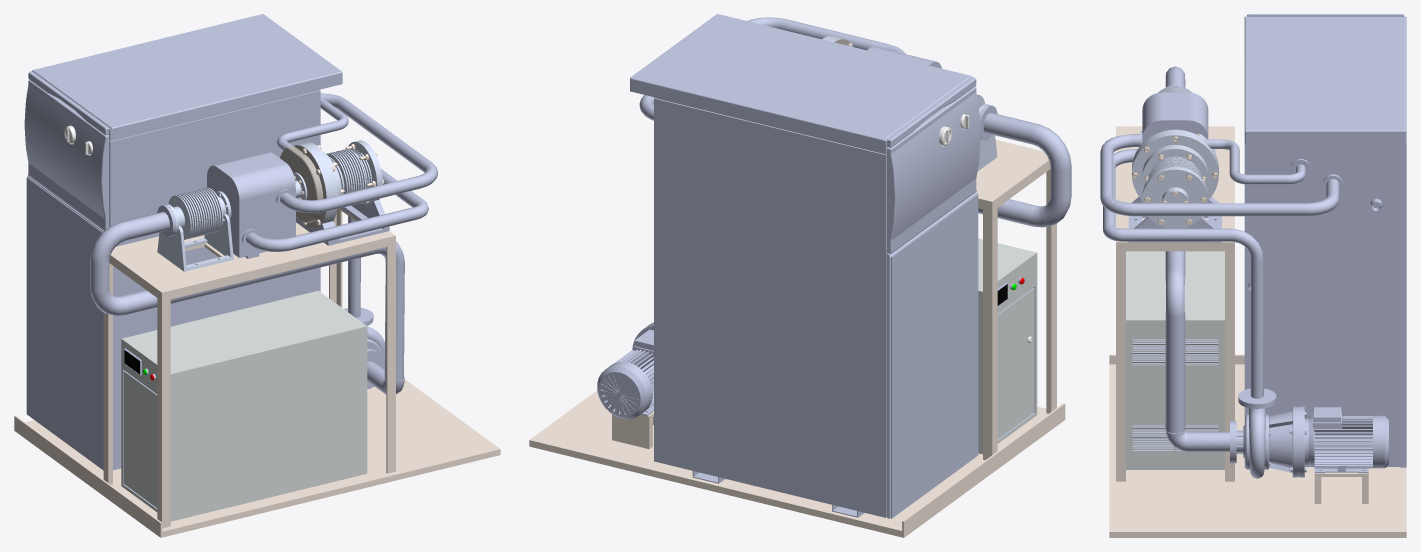
The model's file is 2. ORC тубрина.FBX.
3 views of the same model, side by side, from view 1: azimuth 30°, elevation 25°; view 2: azimuth 150°, elevation 25°; view 3: azimuth 270°, elevation 25° (orthographic). The views are drawn at different scales.
Visible parts, largest first — view 1: Baxi Slim 01_0300 FIN-1-solid1, Шкаф-1-solid1, Carcas-1-solid1, Конденсатор-насос-2-solid1, рекуператор-1-solid1, TG part-1-solid2, Радиатор-1-solid1, Насос-рекуператор-1-solid1, Рекуператор - котел-1-solid1, Котел - турбина-1-solid1, TG part-1-solid1; view 2: Baxi Slim 01_0300 FIN-1-solid1, Carcas-1-solid1, Шкаф-1-solid1, Конденсатор-насос-2-solid1, Wilo BL 80_220-1-solid1, Рекуператор - котел-1-solid1; view 3: Baxi Slim 01_0300 FIN-1-solid1, Carcas-1-solid1, Шкаф-1-solid1, Wilo BL 80_220-1-solid1, TG part-1-solid2, Конденсатор-насос-2-solid1, Насос-рекуператор-1-solid1, Рекуператор - котел-1-solid1, рекуператор-1-solid1, Котел - турбина-1-solid1, TG part-1-solid1.
Part boxes in pixels (x1,y1,x2,y2): Baxi Slim 01_0300 FIN-1-solid1: (24, 14, 342, 470); Шкаф-1-solid1: (121, 290, 367, 521); Carcas-1-solid1: (14, 208, 500, 537); Конденсатор-насос-2-solid1: (90, 204, 404, 394); рекуператор-1-solid1: (207, 152, 295, 258); TG part-1-solid2: (280, 140, 384, 228); Радиатор-1-solid1: (157, 187, 233, 271); Насос-рекуператор-1-solid1: (242, 169, 428, 323); Рекуператор - котел-1-solid1: (276, 93, 437, 212); Котел - турбина-1-solid1: (277, 98, 348, 150); TG part-1-solid1: (296, 199, 389, 245); Baxi Slim 01_0300 FIN-1-solid1: (630, 14, 980, 518); Carcas-1-solid1: (529, 140, 1065, 537); Шкаф-1-solid1: (978, 238, 1037, 454); Конденсатор-насос-2-solid1: (978, 105, 1071, 227); Wilo BL 80_220-1-solid1: (597, 322, 653, 419); Рекуператор - котел-1-solid1: (639, 17, 905, 120); Baxi Slim 01_0300 FIN-1-solid1: (1244, 14, 1406, 467); Carcas-1-solid1: (1109, 126, 1406, 537); Шкаф-1-solid1: (1126, 251, 1224, 469); Wilo BL 80_220-1-solid1: (1233, 397, 1388, 478); TG part-1-solid2: (1131, 129, 1218, 228); Конденсатор-насос-2-solid1: (1165, 66, 1233, 463); Насос-рекуператор-1-solid1: (1103, 149, 1276, 405); Рекуператор - котел-1-solid1: (1100, 131, 1342, 216); рекуператор-1-solid1: (1142, 92, 1208, 142); Котел - турбина-1-solid1: (1204, 139, 1310, 184); TG part-1-solid1: (1128, 196, 1221, 242).
Size of the model in its own units: 669 by 605 by 464.
